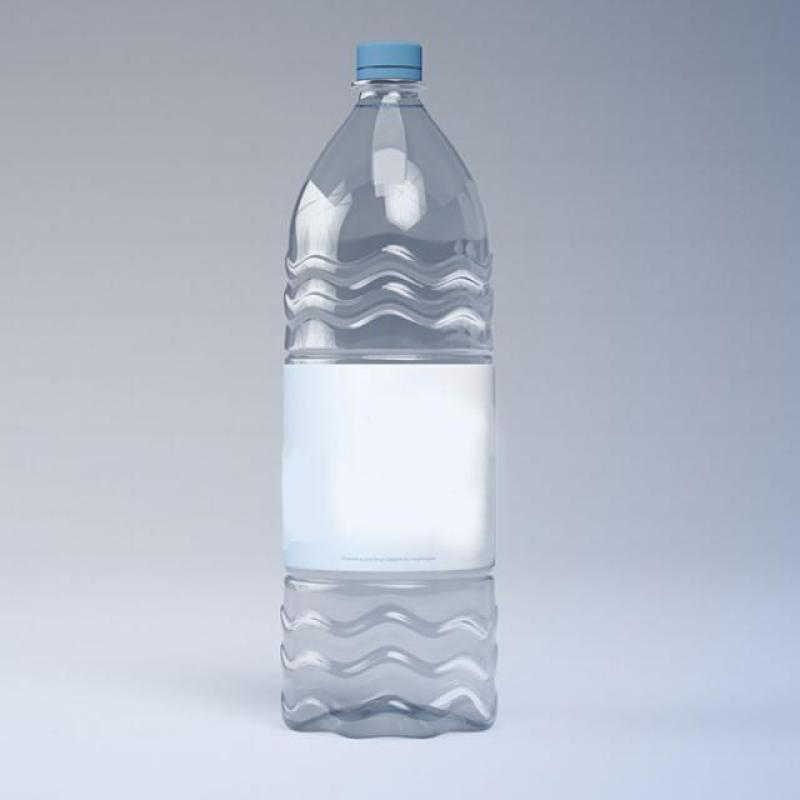botella: (280, 40, 499, 740)
